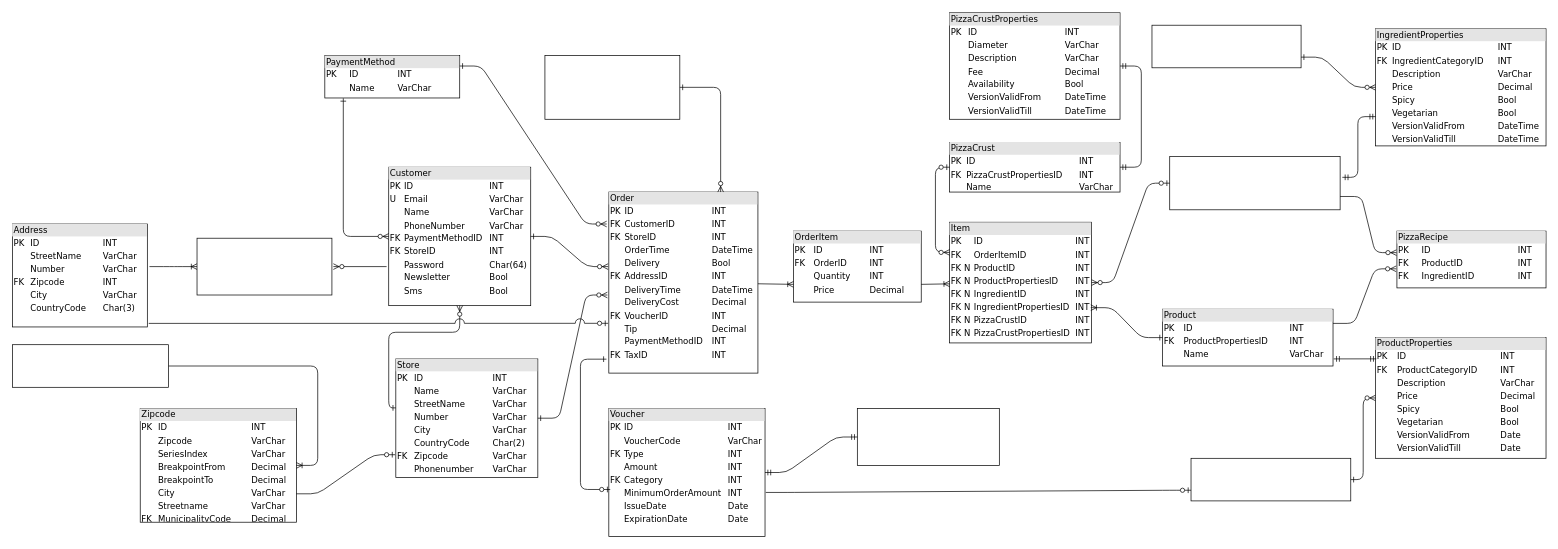
Some shapes in this 1558 by 549 pixel diagram are drawn without their labels. The centre of each missing label's shape, as x and y in pixels:
AddressCustomer PK ID INT FK AddressID INT FK CustomerID INT: (264,266)
Ingredient PK ID INT FK IngredientPropertiesID INT Name VarChar: (1254,183)
IngredientCategory PK ID INT Name VarChar: (1226,46)
Municipality PK MunicipalityCode Decimal Name VarChar: (90,365)
ProductCategory PK ID INT Name VarChar: (1270,479)
Tax PK ID INT Rate Decimal ValidFrom Date VaildTill Date: (612,87)
VoucherType PK ID INT Name VarChar Description VarChar: (928,436)
